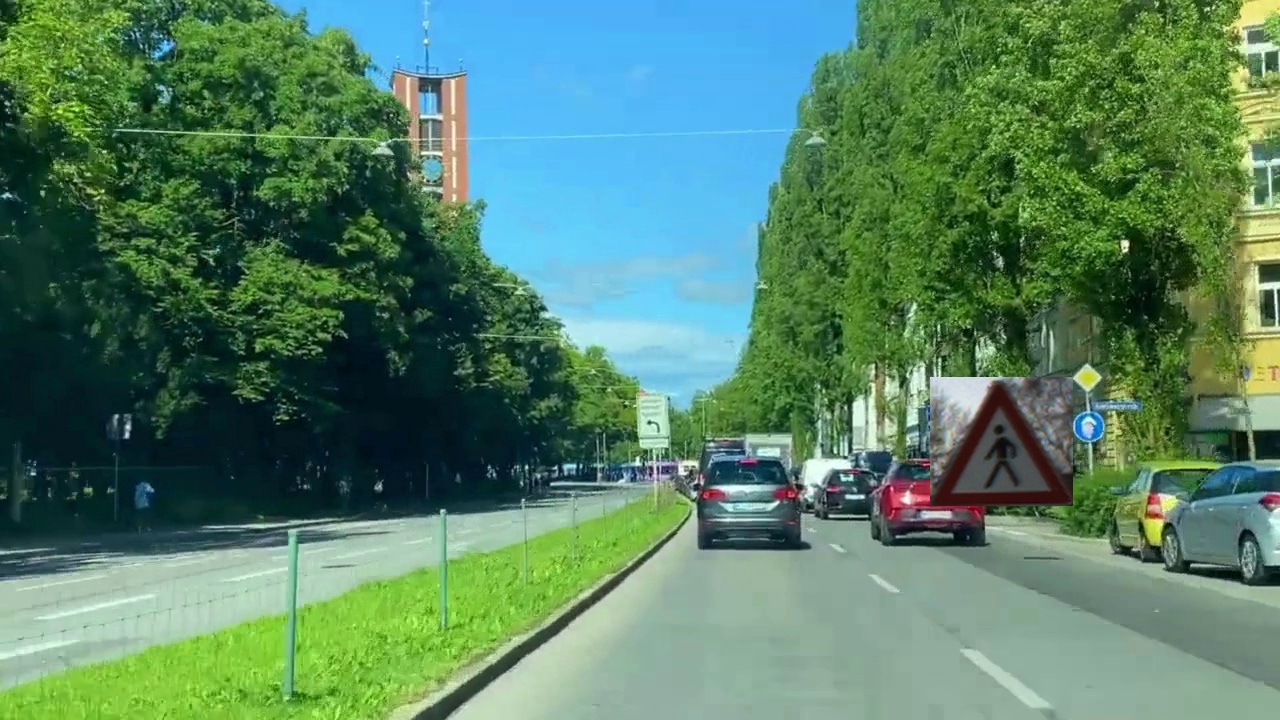Pedestrians: (930, 377, 1073, 506)
